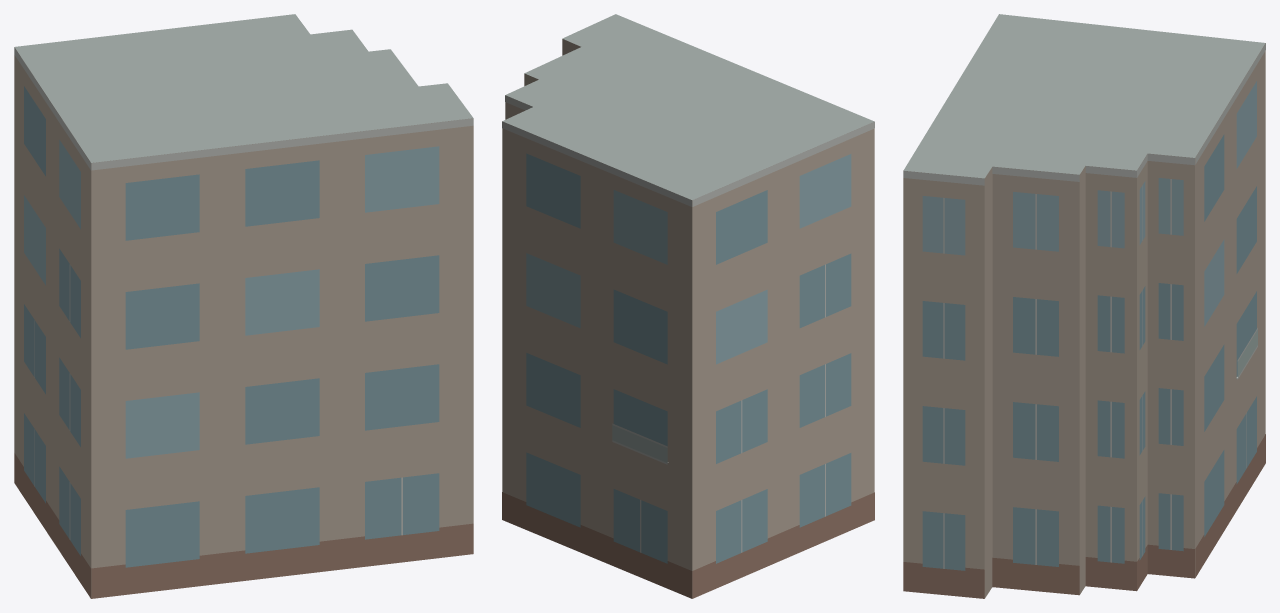
File: survey-upis-32978675.glb
3 views of the same model, side by side, from view 1: azimuth 30°, elevation 25°; view 2: azimuth 150°, elevation 25°; view 3: azimuth 270°, elevation 25° (orthographic). The views are drawn at different scales.
Visible parts, largest first — view 1: survey-upis-32978675.tmp; view 2: survey-upis-32978675.tmp; view 3: survey-upis-32978675.tmp.
Part boxes in pixels (left/top/right/bottom): survey-upis-32978675.tmp: left=14, top=14, right=473, bottom=598; survey-upis-32978675.tmp: left=502, top=14, right=874, bottom=598; survey-upis-32978675.tmp: left=903, top=14, right=1265, bottom=598.
Size of the model in its own units: 11.83 by 14.1 by 11.02.
